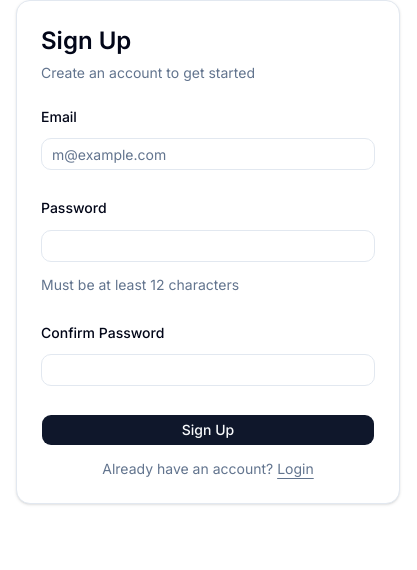
Test case: SignupForm Component › shows error when passwords do not match
Type "test@example.com" into the field with placeholder "m@example.com" at (208, 154), box top-left (41, 138), bottom-right (375, 170)
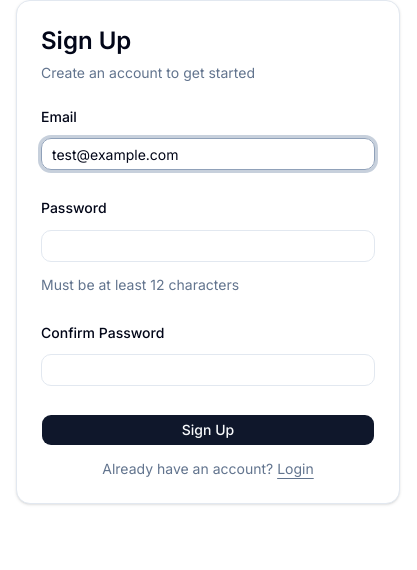
Type "password1234" into the password field labelled "Password" at (208, 246), box top-left (41, 230), bottom-right (375, 262)
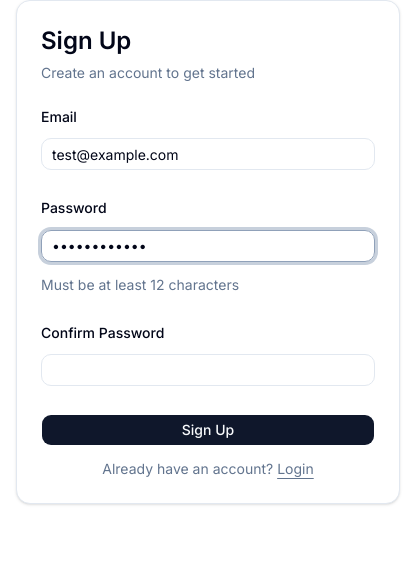
Type "password4567" into the password field labelled "Confirm Password" at (208, 370), box top-left (41, 354), bottom-right (375, 386)
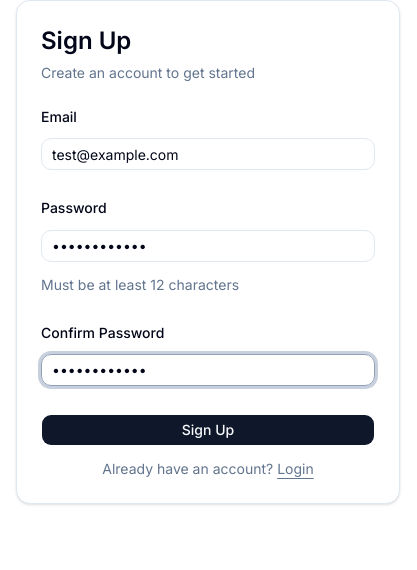
Click the button "Sign Up" at (208, 430), box top-left (41, 414), bottom-right (375, 446)
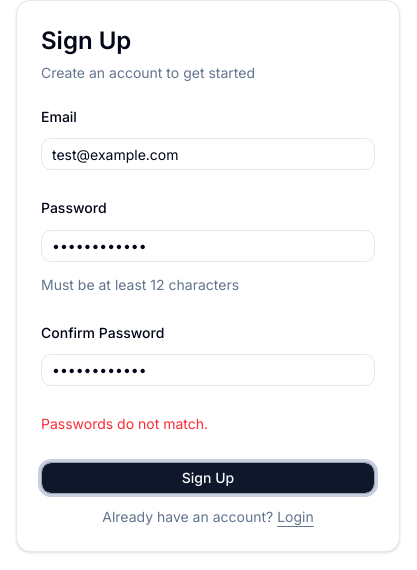
Expected: the text "Passwords do not match." is shown, top-left (41, 415), bottom-right (208, 432)
